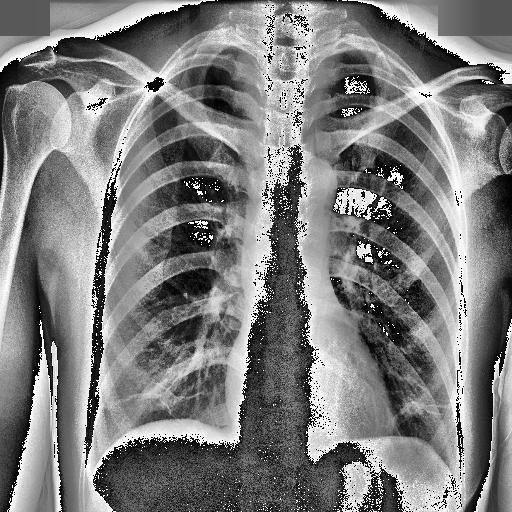13- Pulmonary fibrosis: (98, 380, 207, 414), (99, 389, 200, 417), (94, 388, 207, 410), (399, 392, 458, 418), (402, 390, 460, 416), (408, 399, 458, 418)
